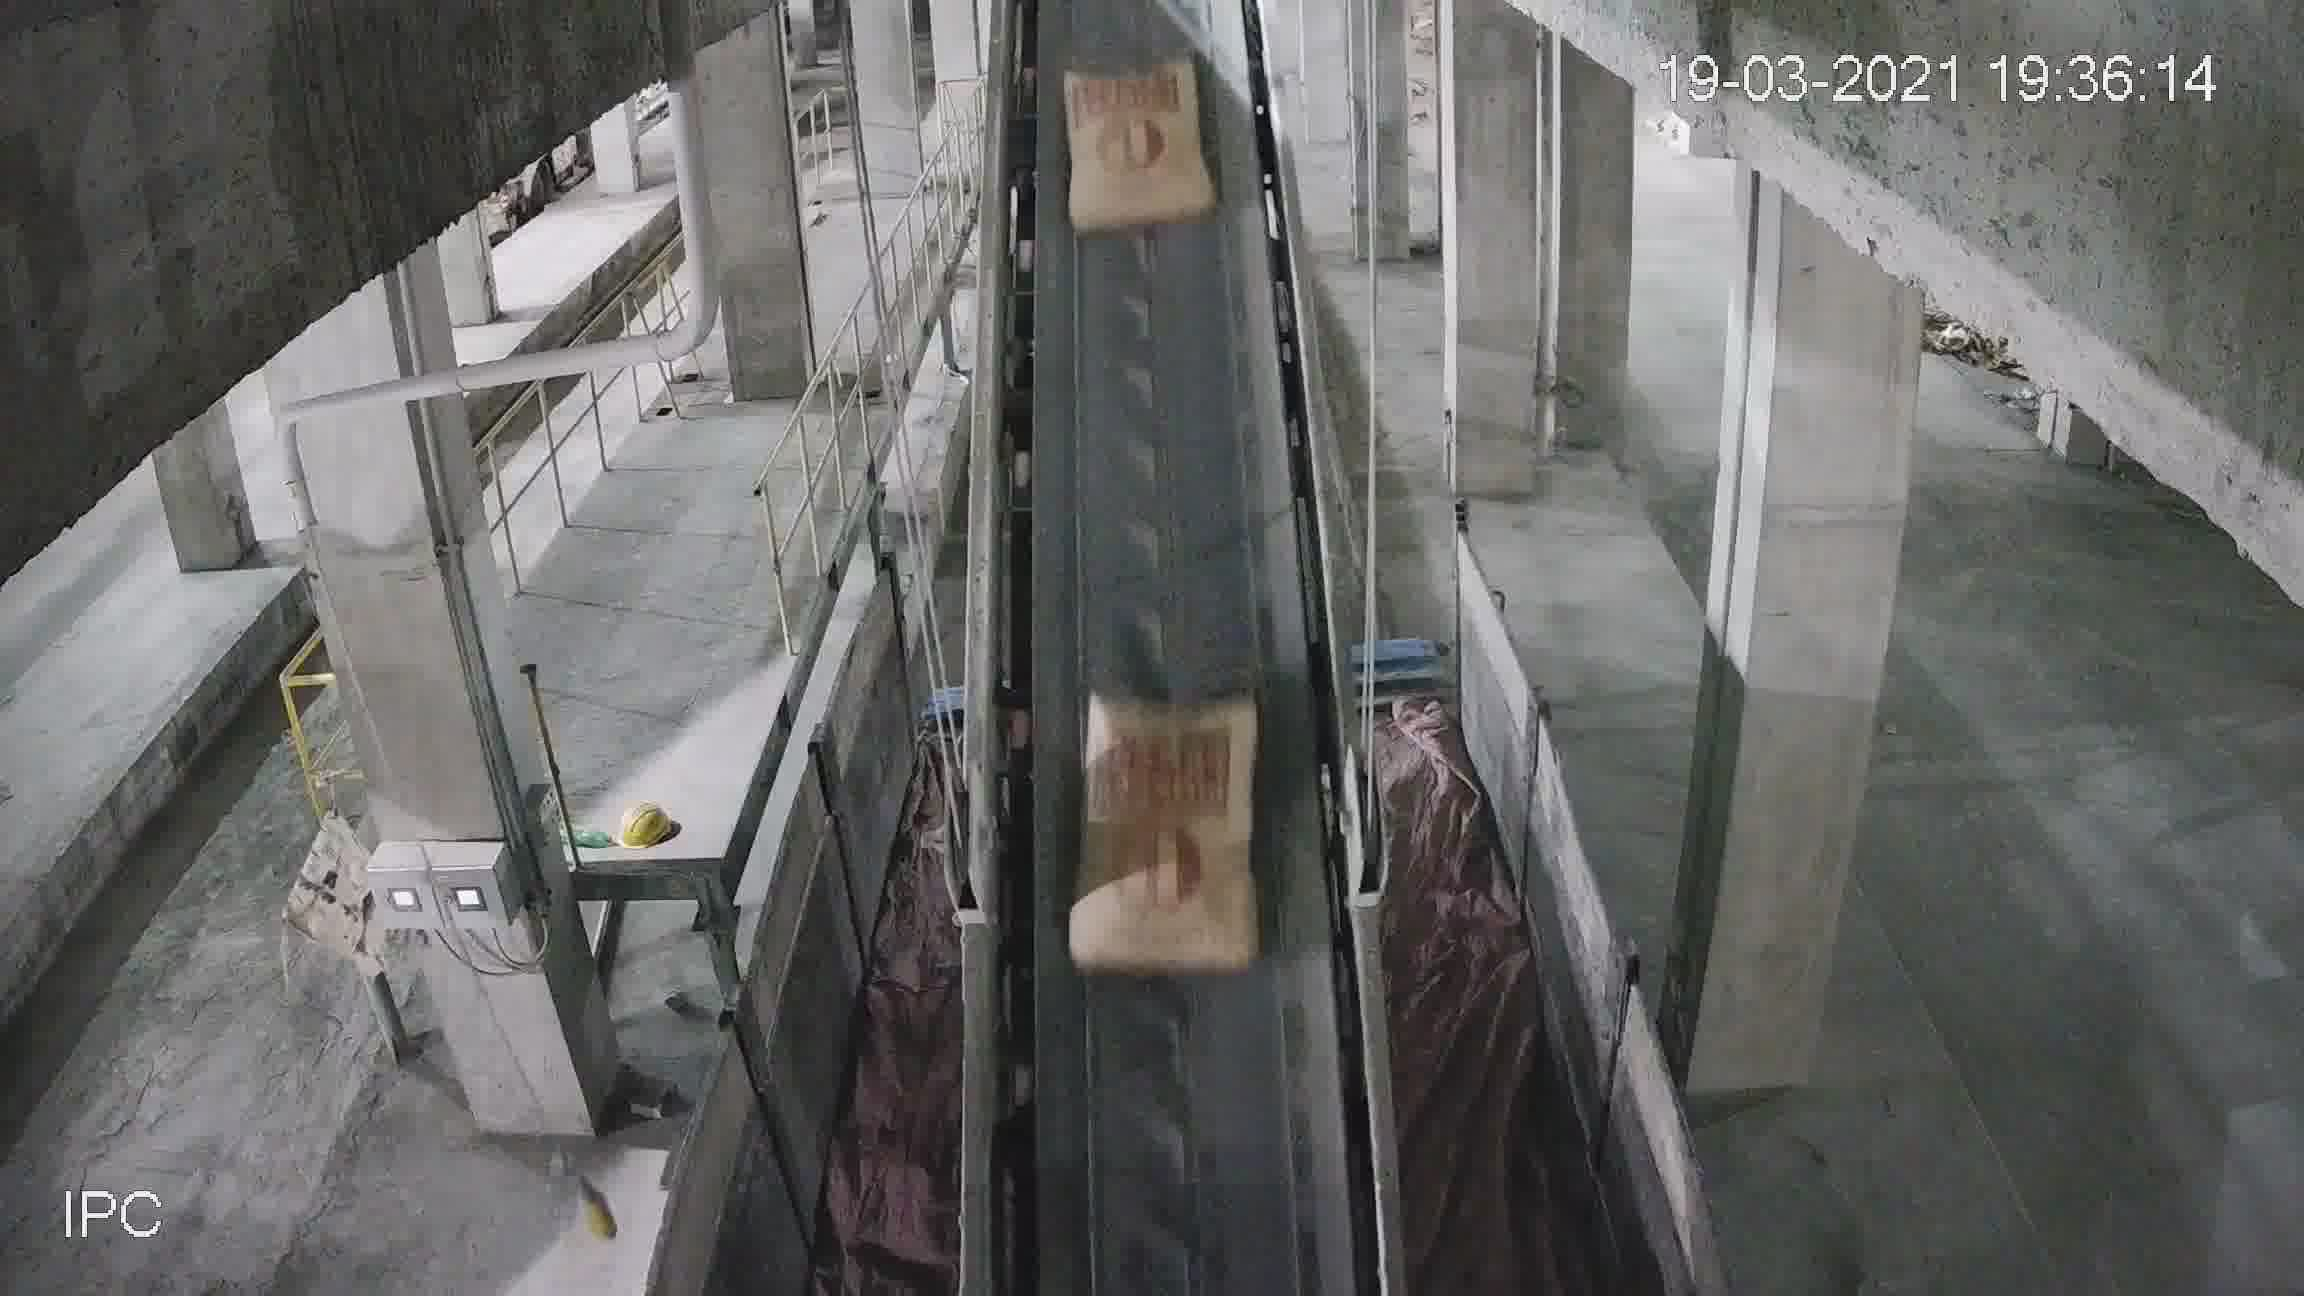bag: (1067, 699, 1253, 978), (1063, 54, 1207, 231)
belt: (968, 74, 1367, 1206)
